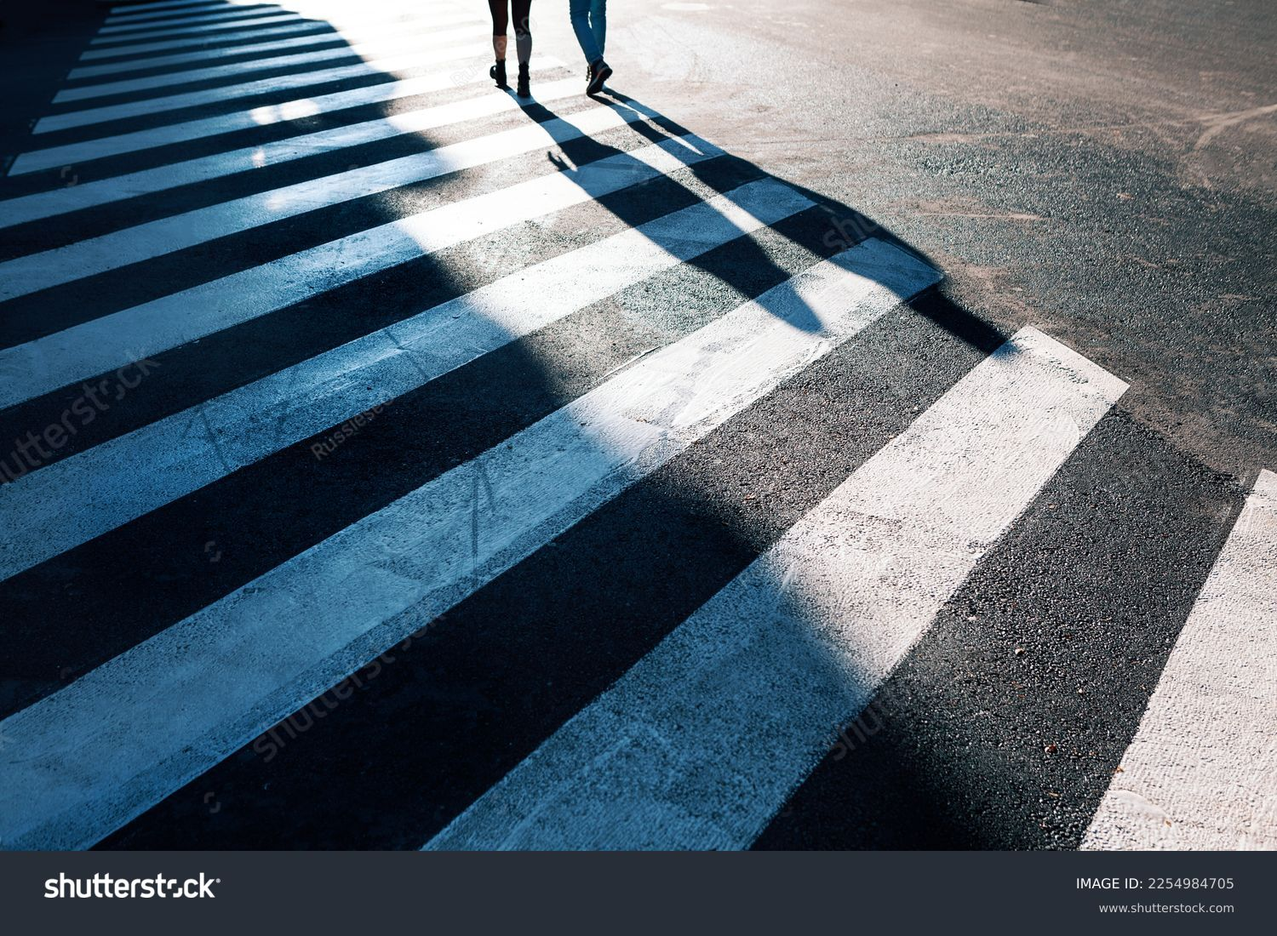Crosswalk: (43, 134, 1263, 832)
